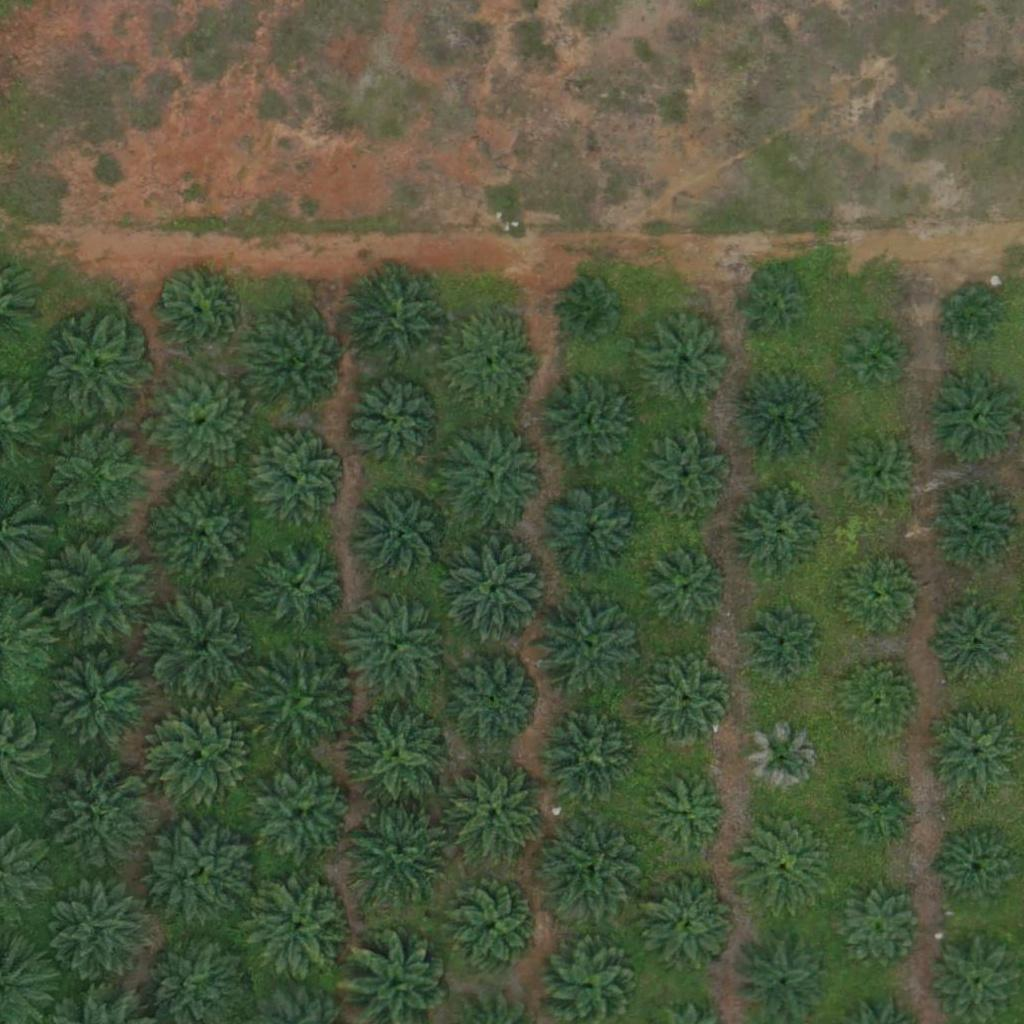Kelapa_Sawit: (146, 366, 259, 480), (150, 478, 263, 592), (247, 642, 360, 756), (339, 699, 452, 813), (347, 798, 460, 912), (45, 873, 158, 986), (534, 589, 647, 702), (337, 592, 449, 706), (534, 814, 646, 928), (48, 536, 160, 649), (46, 644, 158, 757), (150, 593, 262, 706), (149, 817, 261, 930), (341, 263, 453, 376), (441, 533, 553, 646), (54, 768, 154, 869), (152, 704, 252, 805), (249, 318, 349, 419), (254, 761, 354, 862), (350, 377, 450, 478), (352, 483, 452, 584), (443, 315, 543, 416), (445, 421, 545, 522), (539, 373, 639, 474), (542, 481, 642, 582), (540, 705, 640, 806), (636, 311, 736, 412), (738, 814, 838, 915), (826, 879, 926, 980), (247, 876, 347, 977), (45, 318, 145, 418), (58, 428, 158, 528), (249, 427, 349, 527), (252, 538, 352, 638), (444, 649, 544, 749), (446, 766, 546, 866), (640, 873, 740, 973), (443, 876, 543, 976), (644, 435, 732, 524), (834, 659, 922, 748), (835, 766, 923, 854), (738, 378, 826, 466), (735, 491, 823, 579), (837, 557, 925, 645), (153, 266, 240, 354), (641, 549, 728, 637), (644, 659, 731, 747), (933, 486, 1020, 574), (932, 602, 1019, 690), (933, 712, 1020, 800), (650, 776, 725, 852), (840, 441, 915, 516), (744, 609, 819, 684), (746, 723, 821, 798), (745, 274, 808, 337), (842, 321, 905, 384), (562, 276, 625, 339), (938, 282, 1000, 344)
